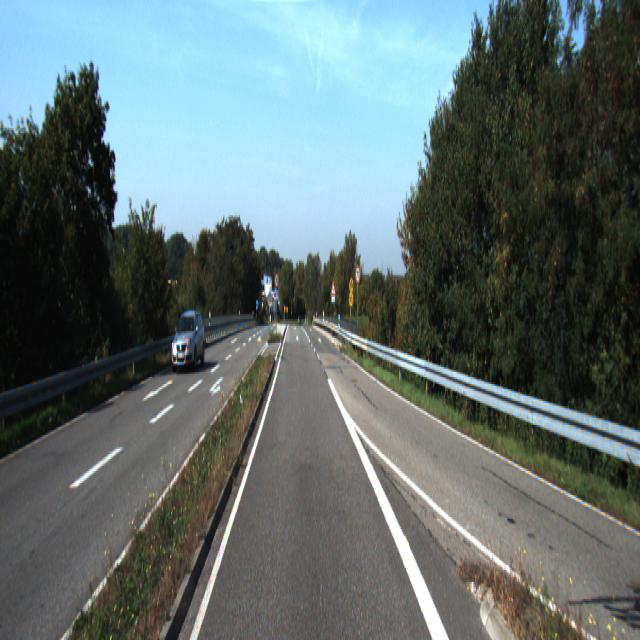Car: (168, 308, 206, 371)
